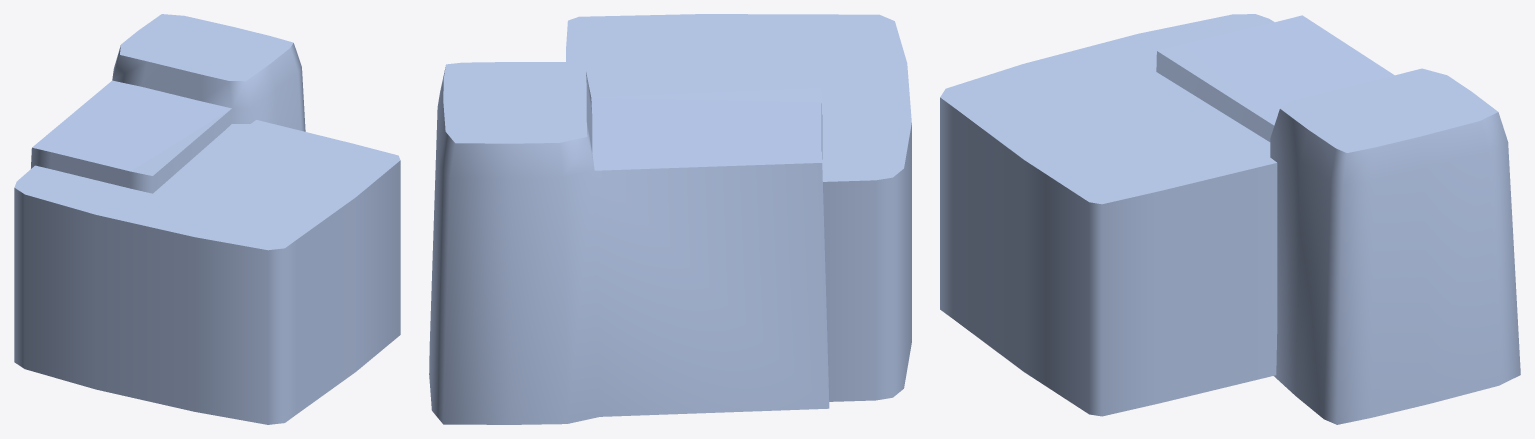
File: Islands_40.FBX
The picture shows the model from 3 angles, left to right: view 1: azimuth 30°, elevation 25°; view 2: azimuth 150°, elevation 25°; view 3: azimuth 270°, elevation 25°; orthographic projection. The views are drawn at different scales.
Visible parts, largest first — view 1: Islands_40; view 2: Islands_40; view 3: Islands_40.
Boxes of the visible parts, <box> form: Islands_40: <box>14,14,400,424</box>; Islands_40: <box>429,14,911,424</box>; Islands_40: <box>940,14,1520,424</box>.
Bounding box in the file's own units: 64.52 × 40.4 × 80.5.
